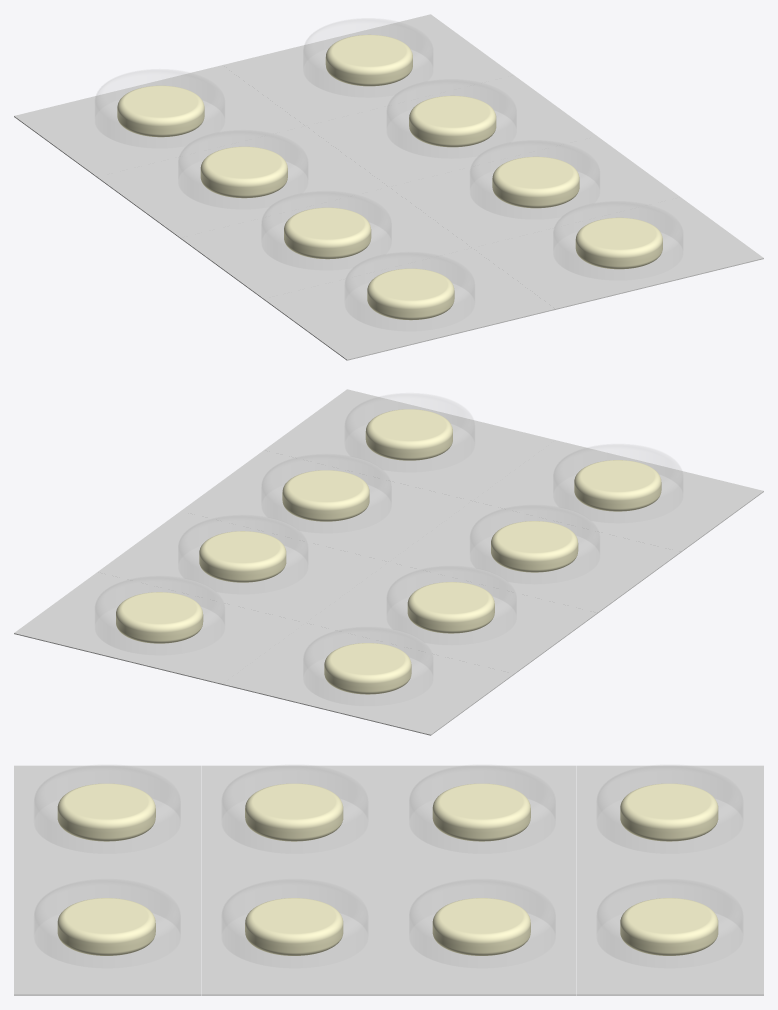
File: Round_Pill_2x4_Beige.glb
3 views of the same model, one above another, from view 1: azimuth 30°, elevation 25°; view 2: azimuth 150°, elevation 25°; view 3: azimuth 270°, elevation 25° (orthographic). The views are drawn at different scales.
Visible parts, largest first — view 1: Round_Pill_Base_2x4, Round_Pill_2x4, Round_Pill_Shell_2x4, Round_Pill_Lid_2x4; view 2: Round_Pill_Base_2x4, Round_Pill_2x4, Round_Pill_Lid_2x4, Round_Pill_Shell_2x4; view 3: Round_Pill_Base_2x4, Round_Pill_2x4, Round_Pill_Shell_2x4, Round_Pill_Lid_2x4.
Boxes of the visible parts, box(x1,y1,x2,y2) form: Round_Pill_Base_2x4: box(14, 14, 763, 360); Round_Pill_2x4: box(117, 34, 662, 320); Round_Pill_Shell_2x4: box(95, 18, 682, 300); Round_Pill_Lid_2x4: box(94, 48, 683, 331); Round_Pill_Base_2x4: box(14, 389, 763, 735); Round_Pill_2x4: box(116, 409, 661, 694); Round_Pill_Lid_2x4: box(94, 423, 683, 706); Round_Pill_Shell_2x4: box(95, 393, 682, 674); Round_Pill_Base_2x4: box(14, 765, 763, 995); Round_Pill_2x4: box(57, 783, 718, 955); Round_Pill_Shell_2x4: box(34, 765, 742, 932); Round_Pill_Lid_2x4: box(33, 798, 743, 968).
Size of the model in its own units: 6.8 by 0.4541 by 9.41.
